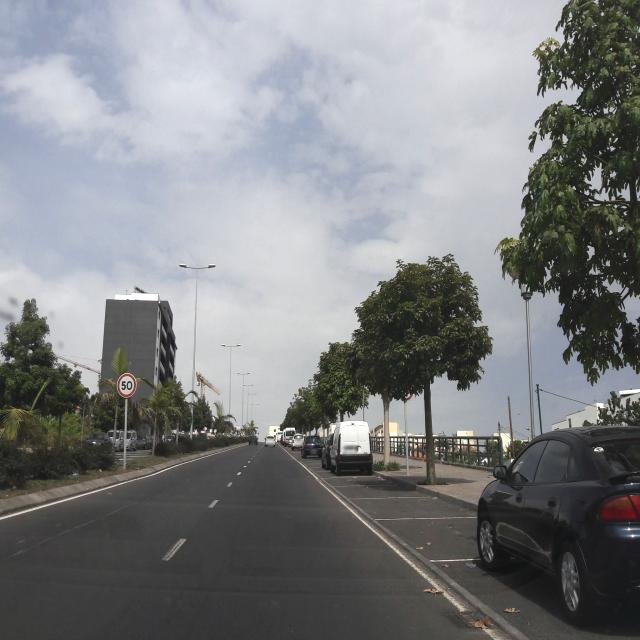car: (475, 422, 640, 627), (326, 420, 374, 476), (301, 434, 323, 460), (84, 431, 114, 449), (321, 435, 334, 469), (290, 434, 305, 452), (283, 428, 296, 447), (264, 434, 276, 448), (248, 434, 259, 446)
